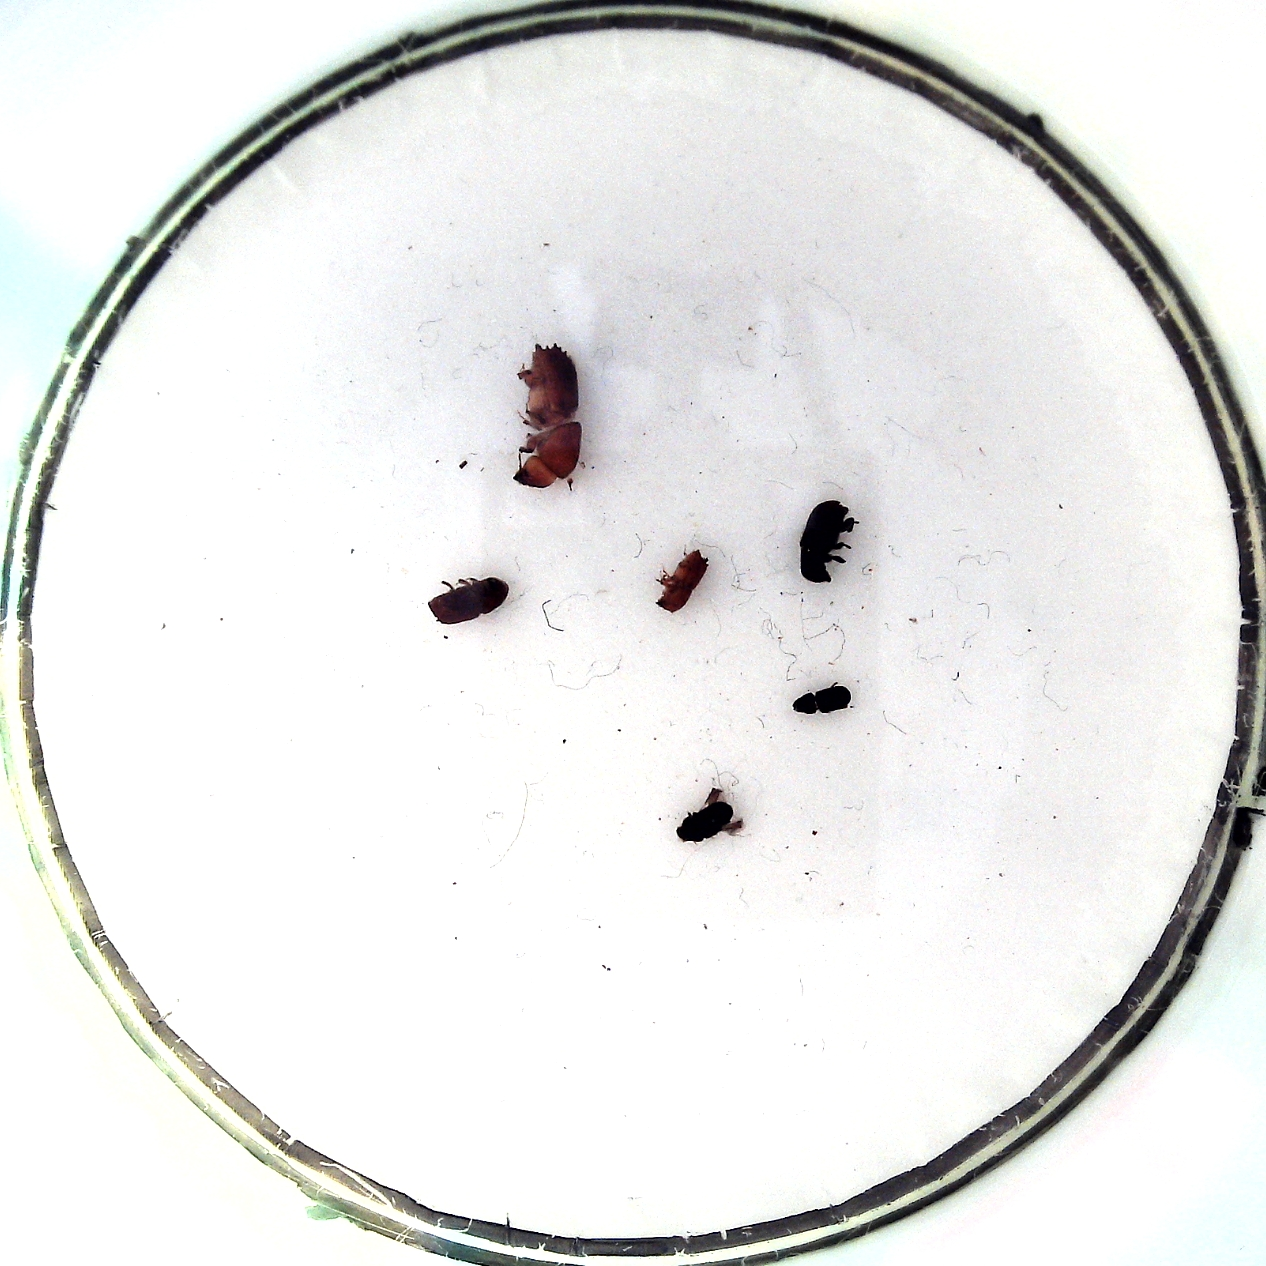Boerner: (512, 342, 582, 489)
acuminatus: (676, 802, 733, 842), (793, 686, 852, 714)
armandi: (799, 500, 850, 582)
coleoptera: (655, 548, 708, 612)
linnaeus: (427, 576, 509, 624)
